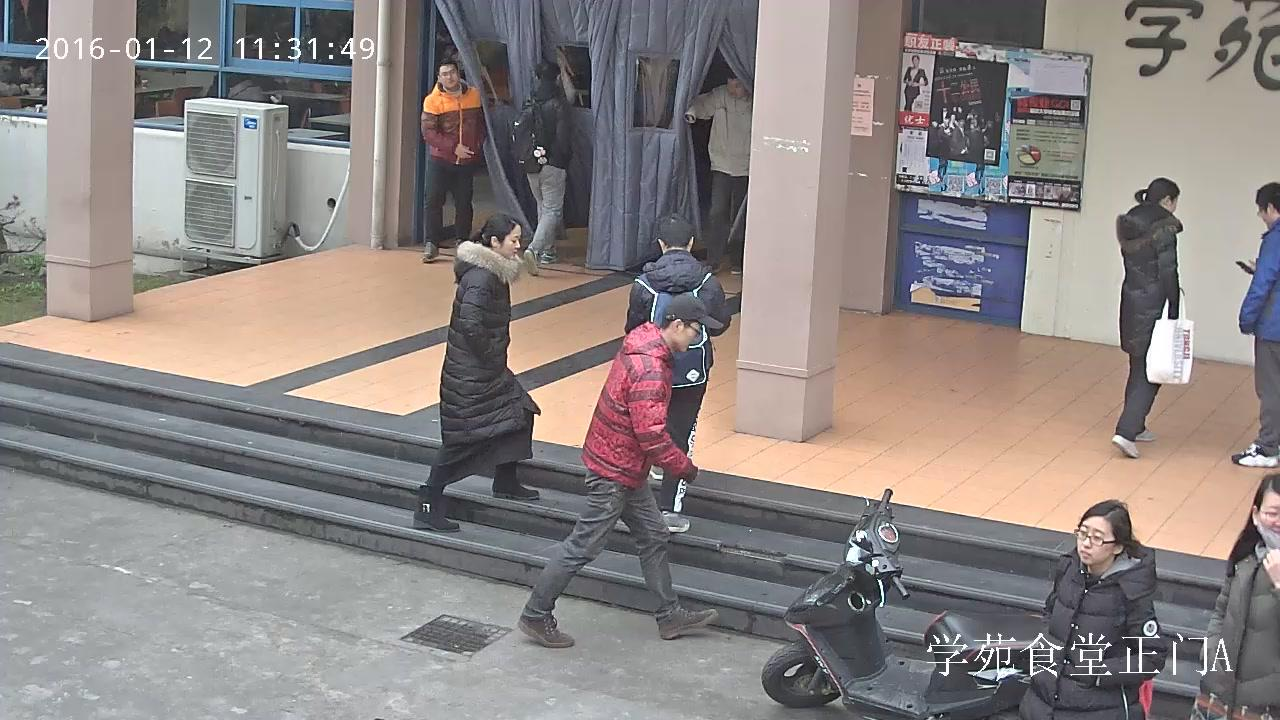person: (518, 294, 724, 647), (412, 213, 541, 533), (623, 214, 731, 532), (1016, 499, 1167, 720), (1110, 178, 1194, 458), (1190, 472, 1280, 720), (683, 64, 753, 275), (505, 60, 571, 276), (1230, 182, 1280, 466), (420, 56, 485, 262), (0, 55, 39, 97), (903, 54, 928, 111), (225, 72, 269, 103)
